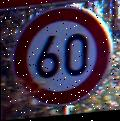Speed Limit -60-: (12, 3, 112, 109)
